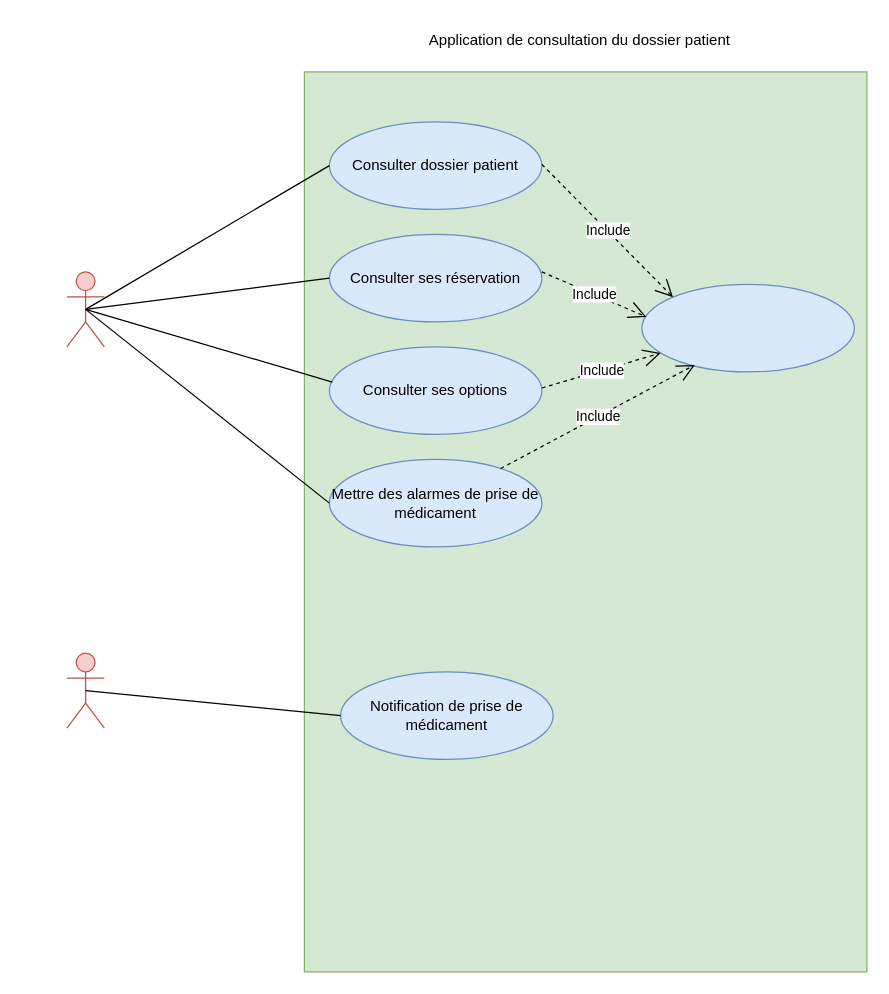
The diagram is 889 pixels wide and 994 high, and some of its shapes have lost their labels. The shapes that lost their labels are listed below. From the top down, each one's box as (x1, y1, x2, y2) in pixels, then its label:
(66, 271, 104, 347): Utilisateur
(641, 283, 854, 372): Se connecter
(66, 652, 104, 728): Tâche automatisée
